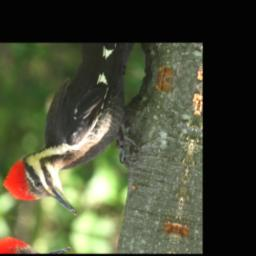Woodpecker: (1, 50, 151, 227)
